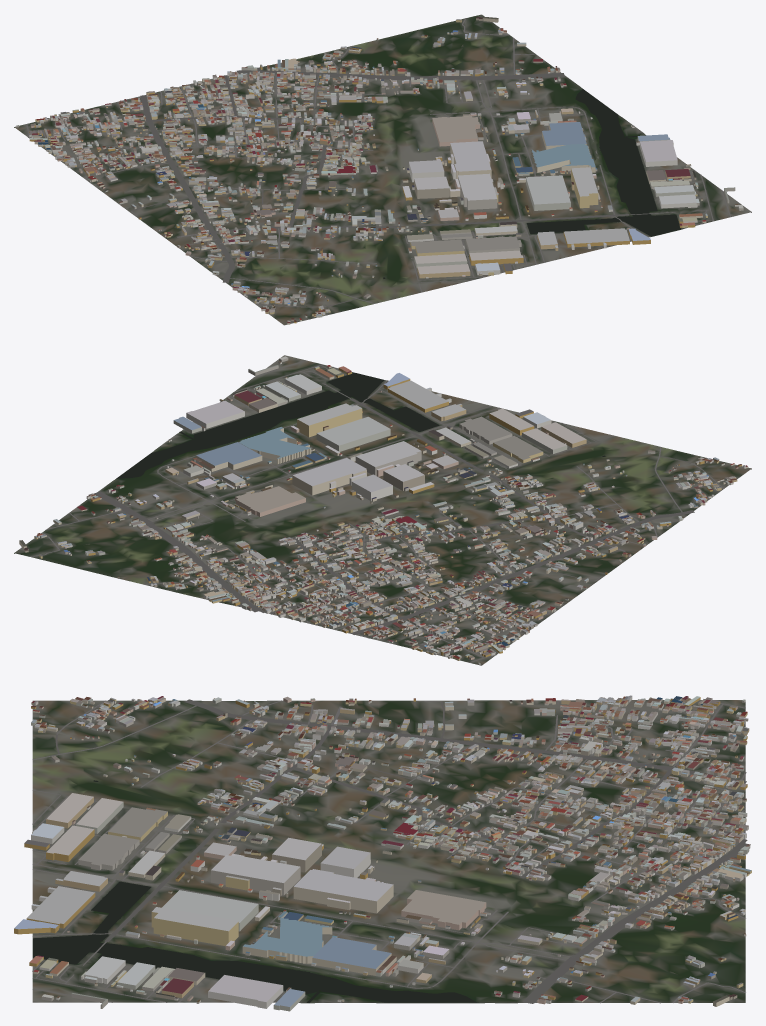
3 views of the same model, one above another, from view 1: azimuth 30°, elevation 25°; view 2: azimuth 150°, elevation 25°; view 3: azimuth 270°, elevation 25° (orthographic). The views are drawn at different scales.
Visible parts, largest first — view 1: ground, buildings, roads, water; view 2: ground, buildings, roads, water; view 3: ground, buildings, roads, water.
Part boxes in pixels (bbox=[...]): ground: bbox=[14, 14, 751, 325]; buildings: bbox=[16, 16, 743, 324]; roads: bbox=[26, 18, 730, 307]; water: bbox=[383, 88, 680, 278]; ground: bbox=[14, 355, 751, 665]; buildings: bbox=[19, 356, 748, 664]; roads: bbox=[30, 360, 724, 662]; water: bbox=[116, 372, 605, 478]; ground: bbox=[32, 700, 745, 1003]; buildings: bbox=[14, 695, 751, 1011]; roads: bbox=[32, 699, 750, 1003]; water: bbox=[33, 780, 478, 1003].
Size of the model in its own units: 1447 by 37.66 by 1449.
